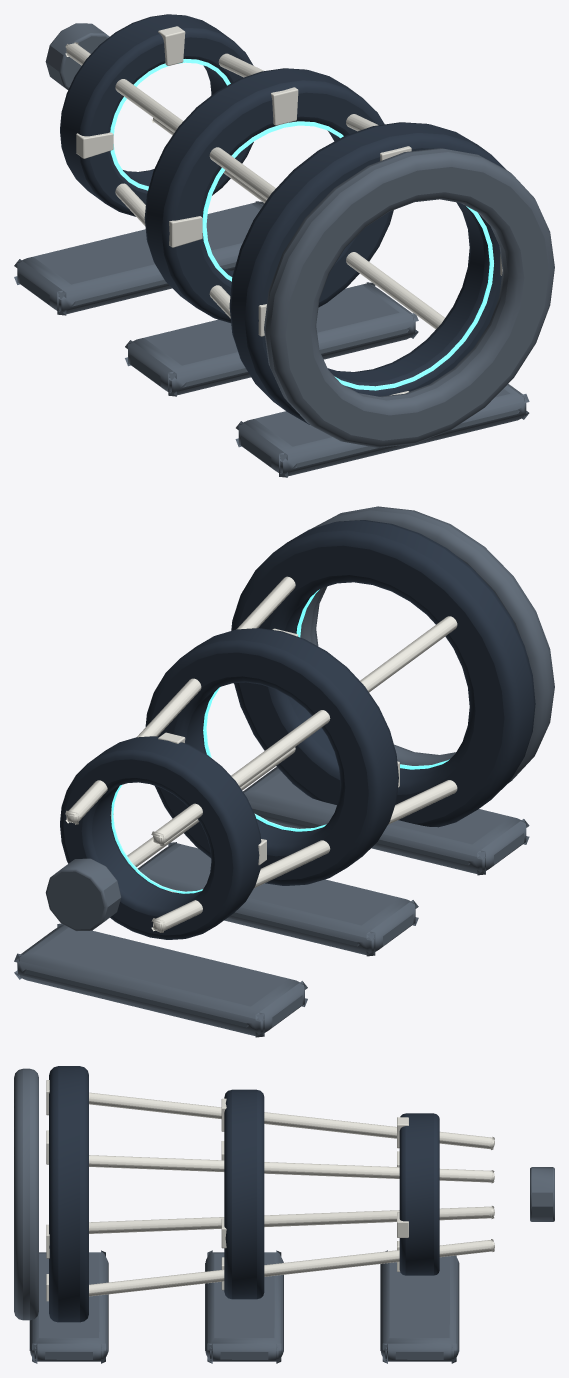
Rendered from compaction_chamber.glb.
3 views of the same model, one above another, from view 1: azimuth 30°, elevation 25°; view 2: azimuth 150°, elevation 25°; view 3: azimuth 270°, elevation 25° (orthographic). The views are drawn at different scales.
Visible parts, largest first — view 1: compaction_chamber__input, compaction_chamber__ring_A, compaction_chamber__ring_B, compaction_chamber__ring_C, compaction_chamber__foot__02, compaction_chamber__foot__03, compaction_chamber__foot, compaction_chamber__compression_piston__02, compaction_chamber__compression_piston__04, compaction_chamber__output, compaction_chamber__ring_A_emissive, compaction_chamber__ring_B_emissive (+3 smaller); view 2: compaction_chamber__ring_A, compaction_chamber__ring_B, compaction_chamber__ring_C, compaction_chamber__foot__03, compaction_chamber__foot__02, compaction_chamber__foot, compaction_chamber__input, compaction_chamber__compression_piston__02, compaction_chamber__output, compaction_chamber__compression_piston__03, compaction_chamber__compression_piston, compaction_chamber__compression_piston__04; view 3: compaction_chamber__ring_A, compaction_chamber__ring_B, compaction_chamber__foot__03, compaction_chamber__ring_C, compaction_chamber__foot__02, compaction_chamber__input, compaction_chamber__foot, compaction_chamber__compression_piston__04, compaction_chamber__compression_piston, compaction_chamber__compression_piston__02, compaction_chamber__compression_piston__03, compaction_chamber__output.
Boxes of the visible parts, x1=… form: compaction_chamber__input: x1=264, y1=148, x2=554, y2=447; compaction_chamber__ring_A: x1=229, y1=122, x2=506, y2=424; compaction_chamber__ring_B: x1=144, y1=68, x2=393, y2=323; compaction_chamber__ring_C: x1=60, y1=14, x2=253, y2=216; compaction_chamber__foot__02: x1=125, y1=282, x2=418, y2=396; compaction_chamber__foot__03: x1=14, y1=201, x2=264, y2=315; compaction_chamber__foot: x1=235, y1=383, x2=529, y2=477; compaction_chamber__compression_piston__02: x1=65, y1=42, x2=275, y2=199; compaction_chamber__compression_piston__04: x1=151, y1=118, x2=444, y2=329; compaction_chamber__output: x1=45, y1=23, x2=109, y2=89; compaction_chamber__ring_A_emissive: x1=334, y1=206, x2=493, y2=390; compaction_chamber__ring_B_emissive: x1=202, y1=121, x2=343, y2=281; compaction_chamber__ring_A: x1=231, y1=520, x2=535, y2=827; compaction_chamber__ring_B: x1=145, y1=628, x2=399, y2=885; compaction_chamber__ring_C: x1=60, y1=732, x2=266, y2=939; compaction_chamber__foot__03: x1=14, y1=923, x2=307, y2=1037; compaction_chamber__foot__02: x1=137, y1=842, x2=418, y2=956; compaction_chamber__foot: x1=243, y1=767, x2=529, y2=875; compaction_chamber__input: x1=300, y1=506, x2=554, y2=783; compaction_chamber__compression_piston__02: x1=151, y1=616, x2=457, y2=845; compaction_chamber__output: x1=45, y1=858, x2=121, y2=931; compaction_chamber__compression_piston__03: x1=151, y1=780, x2=457, y2=932; compaction_chamber__compression_piston: x1=65, y1=576, x2=295, y2=824; compaction_chamber__compression_piston__04: x1=127, y1=747, x2=295, y2=866; compaction_chamber__ring_A: x1=46, y1=1066, x2=88, y2=1322; compaction_chamber__ring_B: x1=221, y1=1089, x2=264, y2=1299; compaction_chamber__foot__03: x1=380, y1=1250, x2=459, y2=1363; compaction_chamber__ring_C: x1=397, y1=1113, x2=439, y2=1275; compaction_chamber__foot__02: x1=205, y1=1250, x2=283, y2=1363; compaction_chamber__input: x1=14, y1=1068, x2=38, y2=1320; compaction_chamber__foot: x1=29, y1=1250, x2=108, y2=1363; compaction_chamber__compression_piston__04: x1=89, y1=1239, x2=494, y2=1296; compaction_chamber__compression_piston: x1=89, y1=1155, x2=494, y2=1183; compaction_chamber__compression_piston__02: x1=89, y1=1092, x2=494, y2=1149; compaction_chamber__compression_piston__03: x1=89, y1=1206, x2=494, y2=1233; compaction_chamber__output: x1=530, y1=1167, x2=554, y2=1221.
Size of the model in its own units: 2.2 by 2.2 by 4.5.
